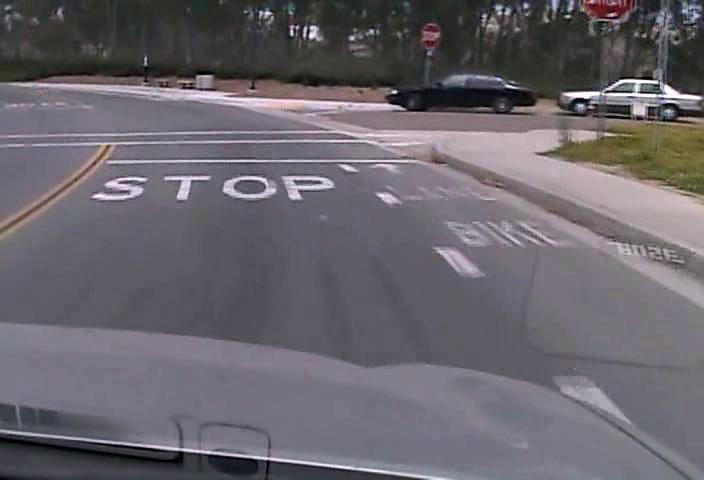stop: (421, 22, 441, 49)
